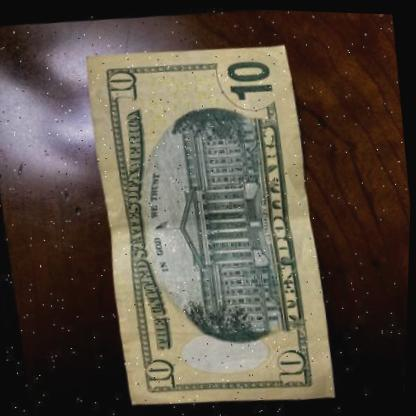dollar_back: (71, 24, 344, 416)
